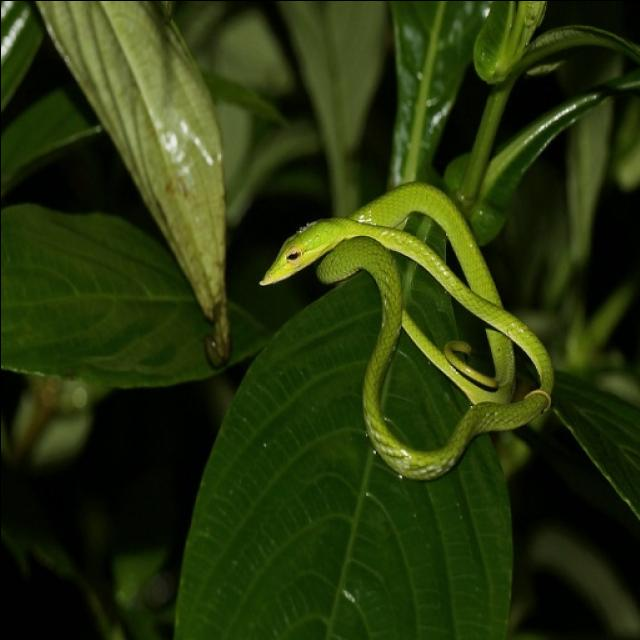snake: (253, 168, 558, 491)
